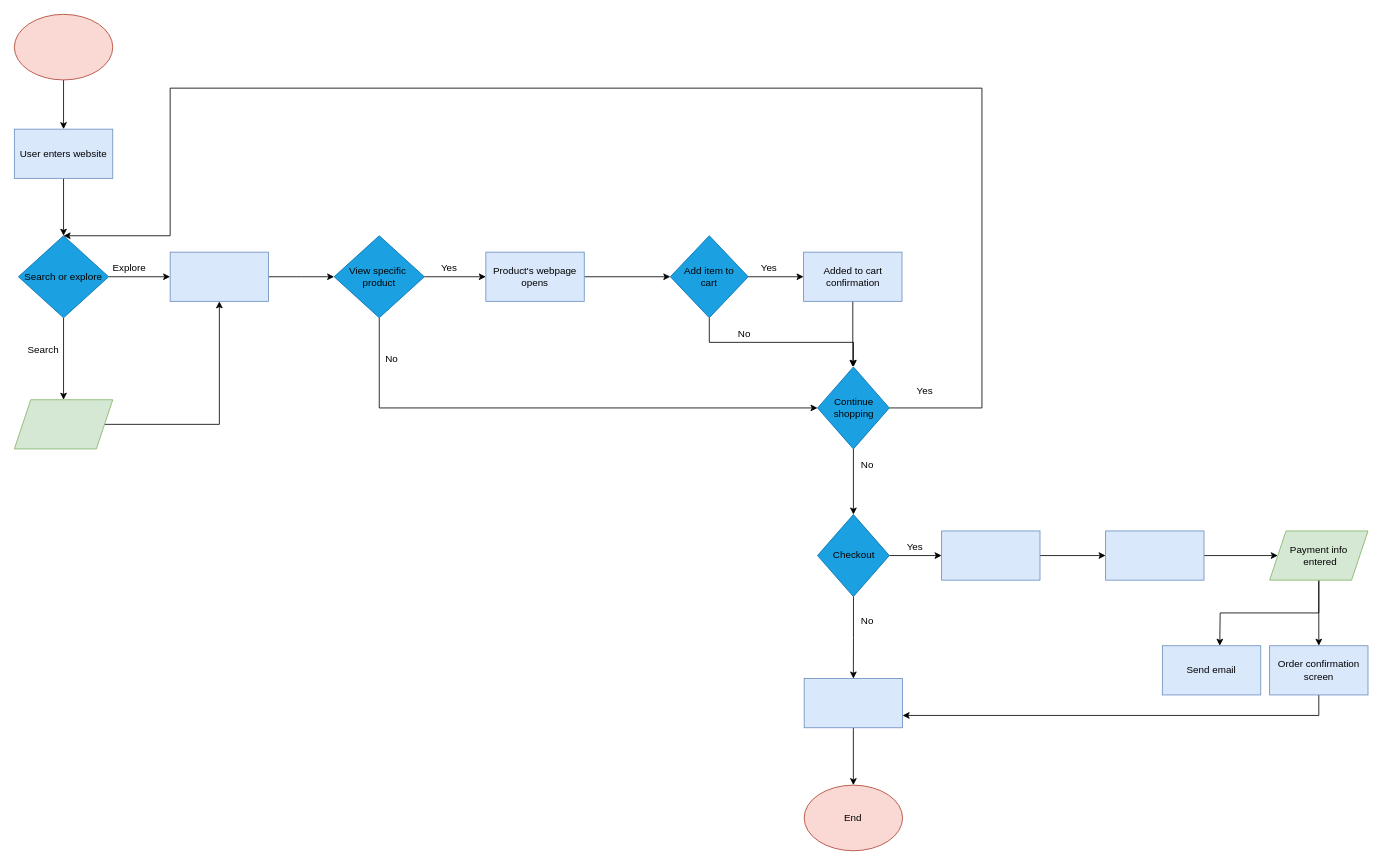
Image size: 1383x865. Some labels were removed from this diagram. Each missing label, with the centre of its shape:
Customer leaves website: (x=853, y=703)
Start: (x=63, y=47)
User begins looking over products: (x=219, y=276)
User's search input: (x=63, y=424)
View cart screen: (x=990, y=555)
View payment screen: (x=1154, y=555)
